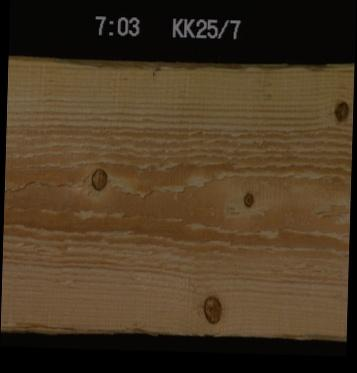dry_knot: (330, 97, 350, 123), (88, 165, 108, 190), (240, 189, 254, 208)
wave: (0, 322, 342, 339), (7, 58, 288, 77)
